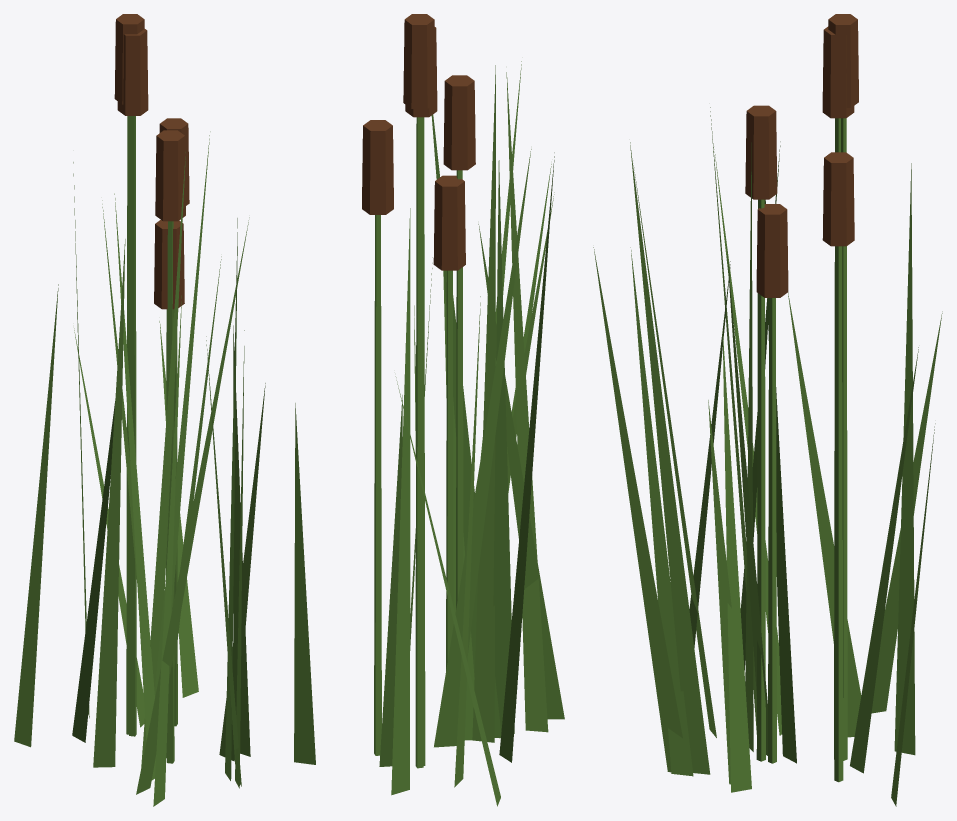
File: Reeds.fbx
3 views of the same model, side by side, from view 1: azimuth 30°, elevation 25°; view 2: azimuth 150°, elevation 25°; view 3: azimuth 270°, elevation 25° (orthographic). The views are drawn at different scales.
Visible parts, largest first — view 1: Reeds.001; view 2: Reeds.001; view 3: Reeds.001.
Part boxes in pixels (x1=…): Reeds.001: x1=14, y1=14, x2=265, y2=806; Reeds.001: x1=294, y1=14, x2=564, y2=806; Reeds.001: x1=593, y1=14, x2=942, y2=806.
Size of the model in its own units: 0.3974 by 1.43 by 0.6128.
